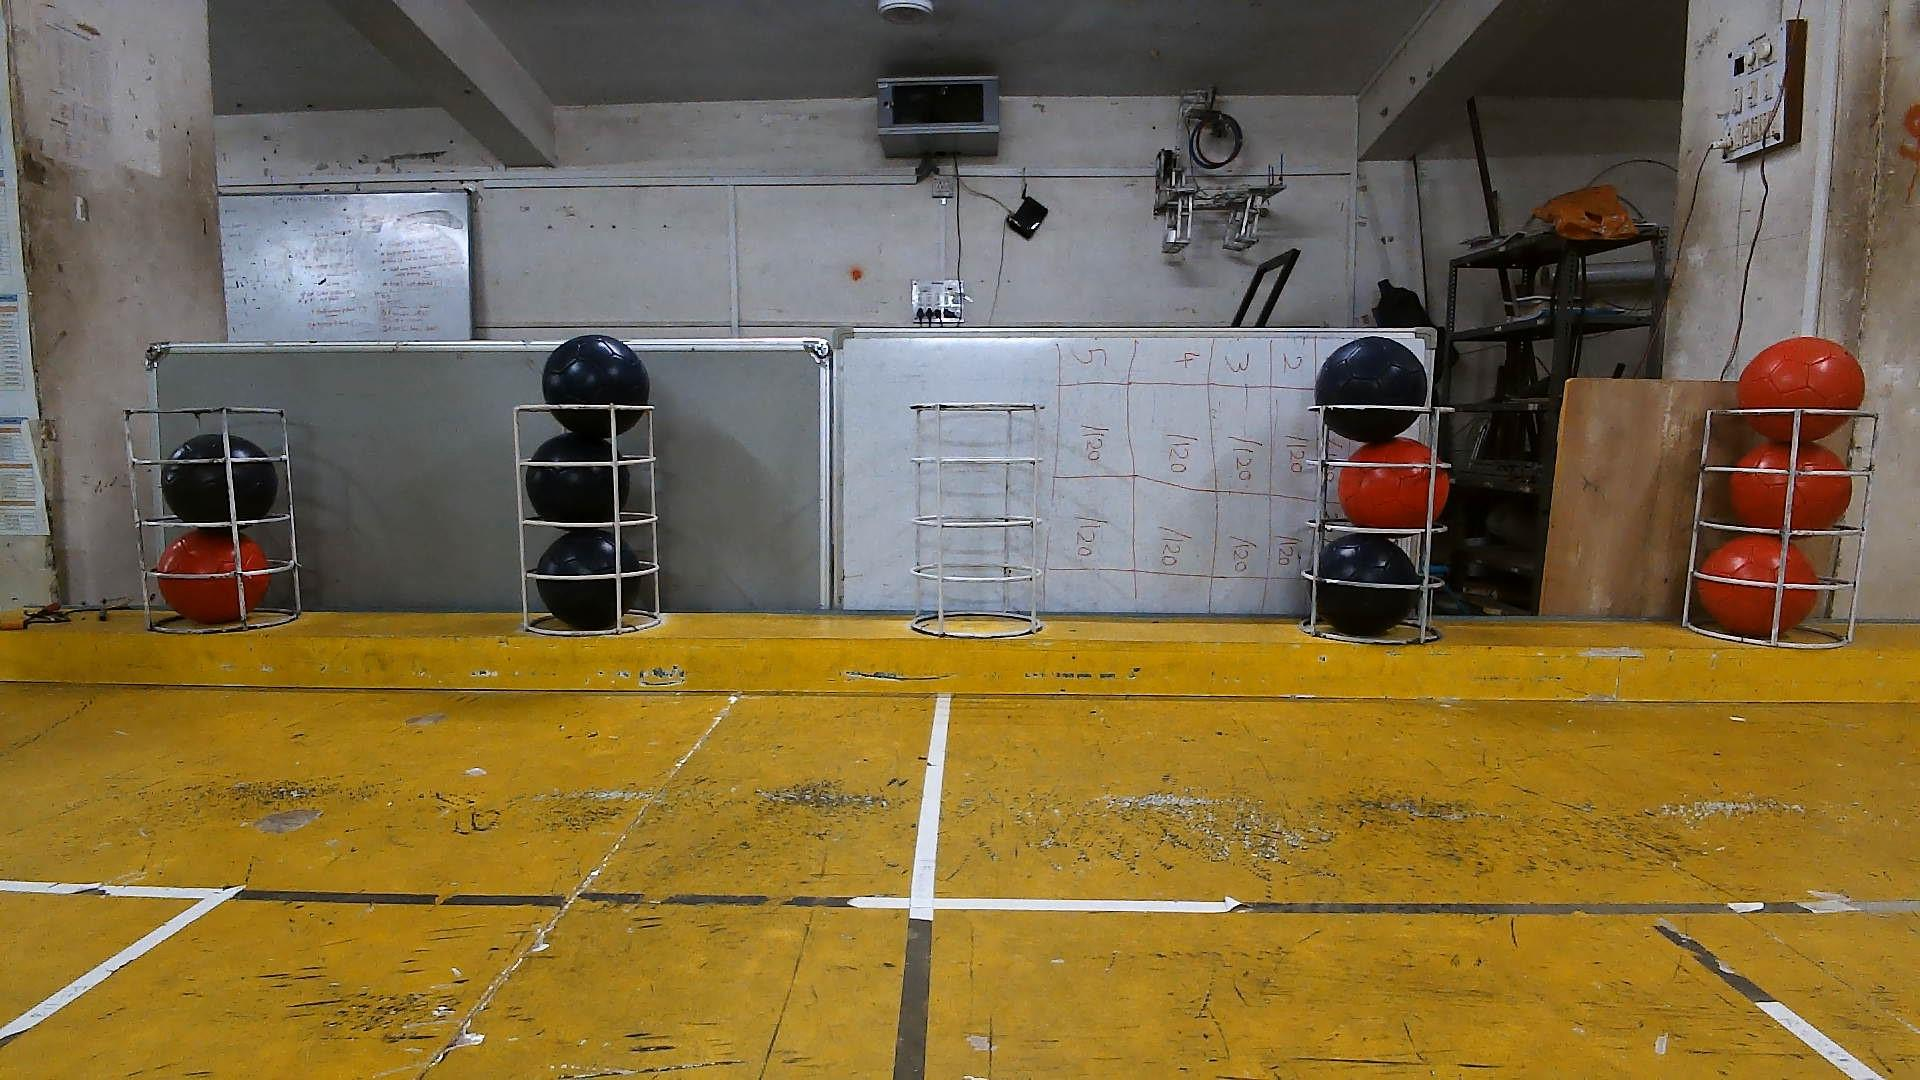dhoka: (1316, 338, 1428, 443), (542, 336, 651, 443), (161, 435, 277, 529), (541, 529, 645, 630), (1316, 533, 1418, 637), (524, 435, 629, 524)
laale: (1737, 338, 1863, 443), (1702, 537, 1822, 637), (1725, 440, 1853, 534), (157, 529, 270, 626), (1338, 439, 1452, 529)
